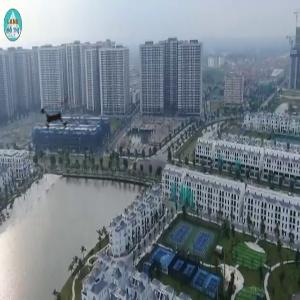drone: (20, 82, 94, 156)
